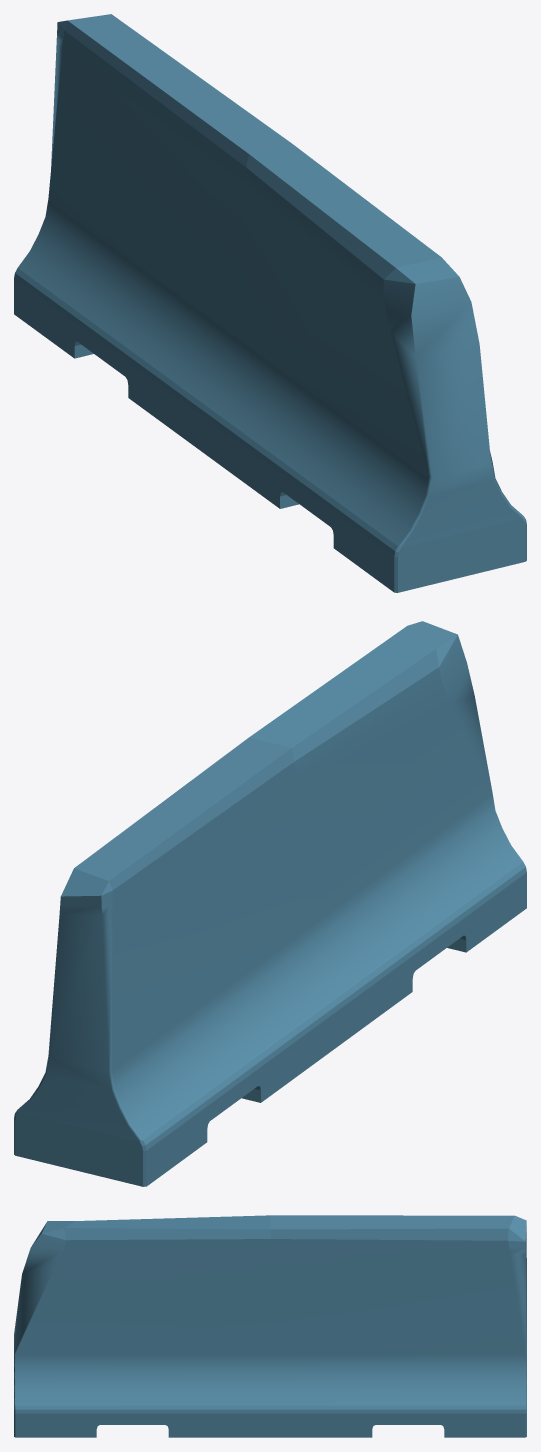
File: GJ_Decor_Barrier.fbx
3 renders of one model, top to bottom at view 1: azimuth 30°, elevation 25°; view 2: azimuth 150°, elevation 25°; view 3: azimuth 270°, elevation 25°, orthographic. The views are drawn at different scales.
Parts seen in each view (by area): view 1: GJ_Decor_Barrier; view 2: GJ_Decor_Barrier; view 3: GJ_Decor_Barrier.
Part boxes in pixels (x1,y1,x2,y2): GJ_Decor_Barrier: (14,14,526,592); GJ_Decor_Barrier: (14,621,526,1186); GJ_Decor_Barrier: (14,1215,526,1437).
Size of the model in its own units: 2.62 by 5.45 by 13.09.
